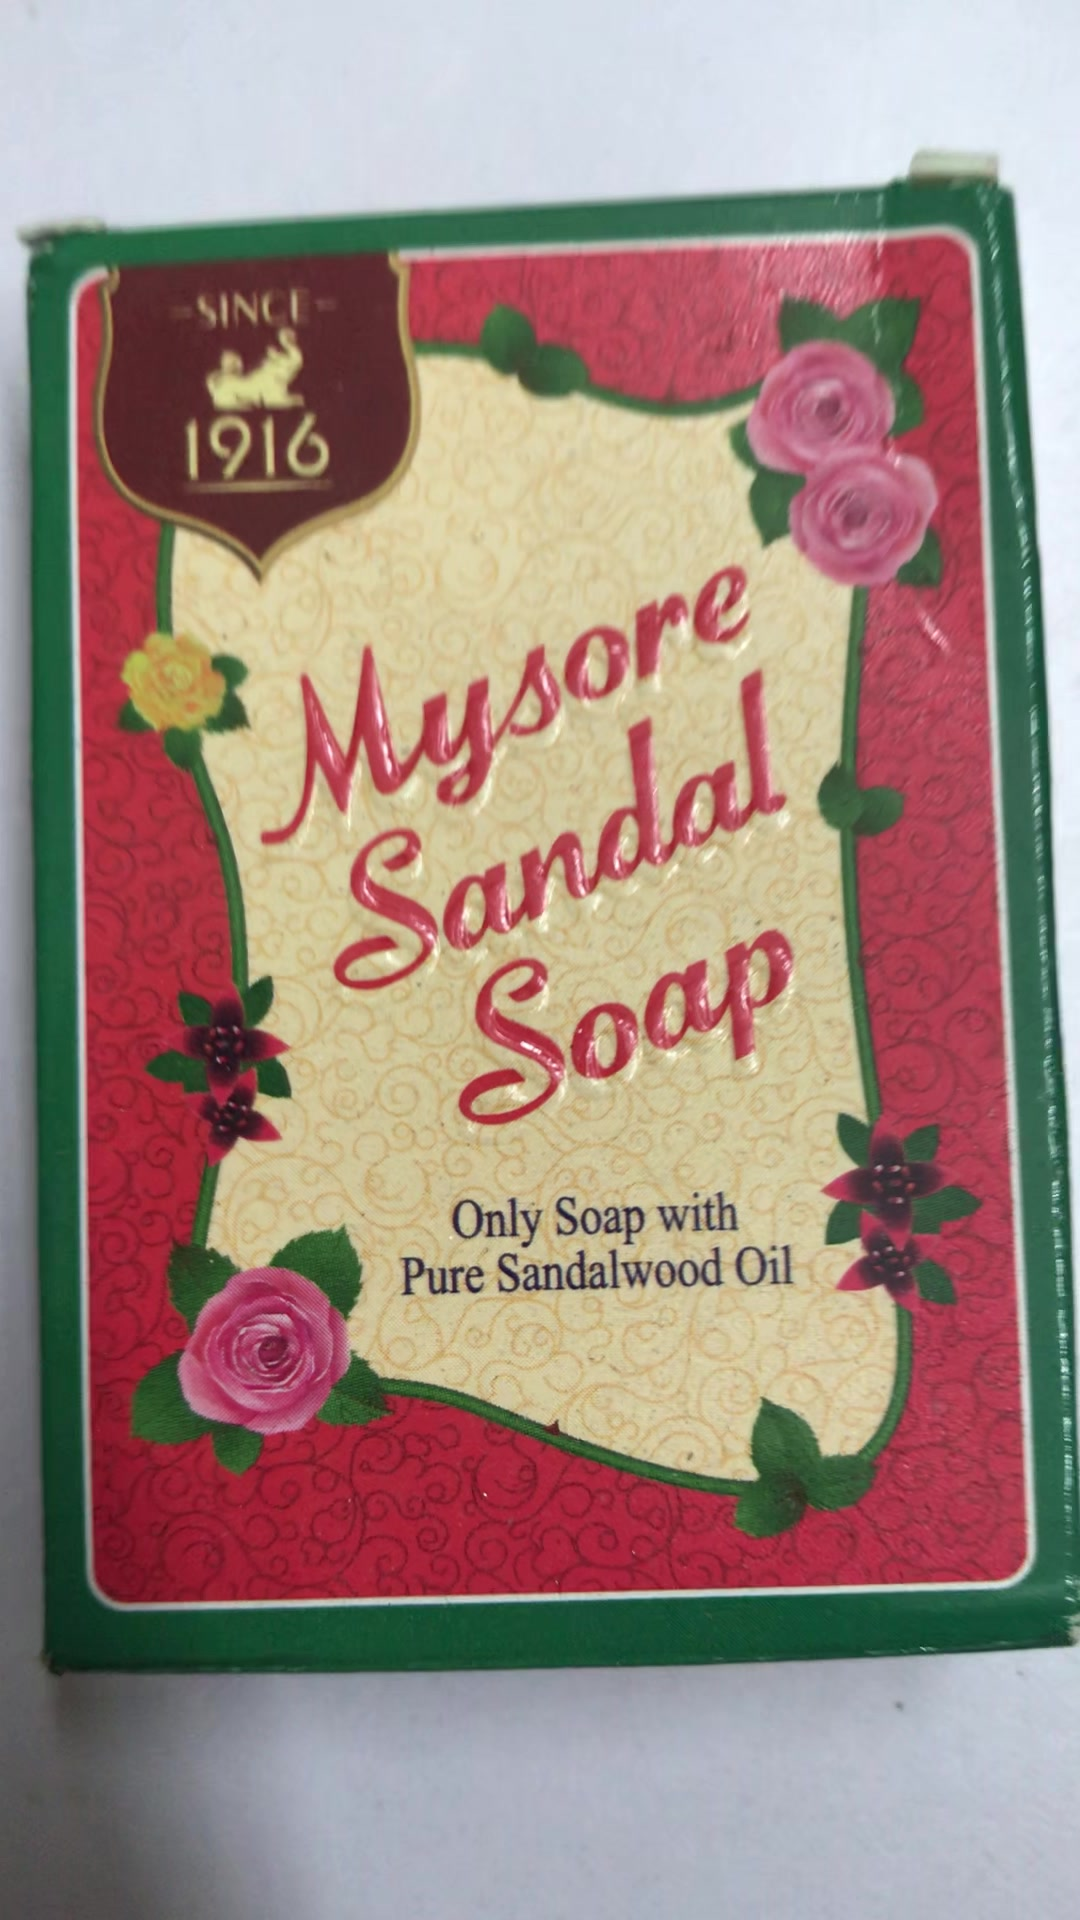mysore sandal soap: (36, 190, 1080, 1669)
